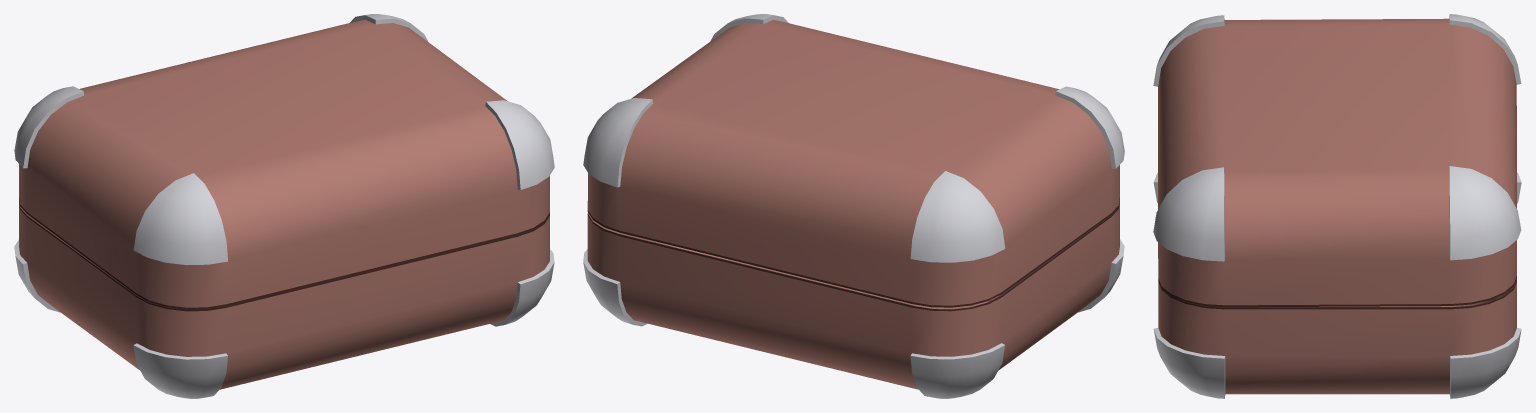
Rendered from BriefCase.fbx.
3 views of the same model, side by side, from view 1: azimuth 30°, elevation 25°; view 2: azimuth 150°, elevation 25°; view 3: azimuth 270°, elevation 25° (orthographic). The views are drawn at different scales.
Parts seen in each view (by area): view 1: Top, Bottom; view 2: Top, Bottom; view 3: Top, Bottom.
Boxes of the visible parts, x1,y1,x2,y2 form: Top: (14,14,554,309); Bottom: (14,199,554,398); Top: (583,14,1124,307); Bottom: (583,200,1124,398); Top: (1153,14,1521,307); Bottom: (1153,173,1521,398).
Bounding box in the file's own units: 204 × 105 × 154.
